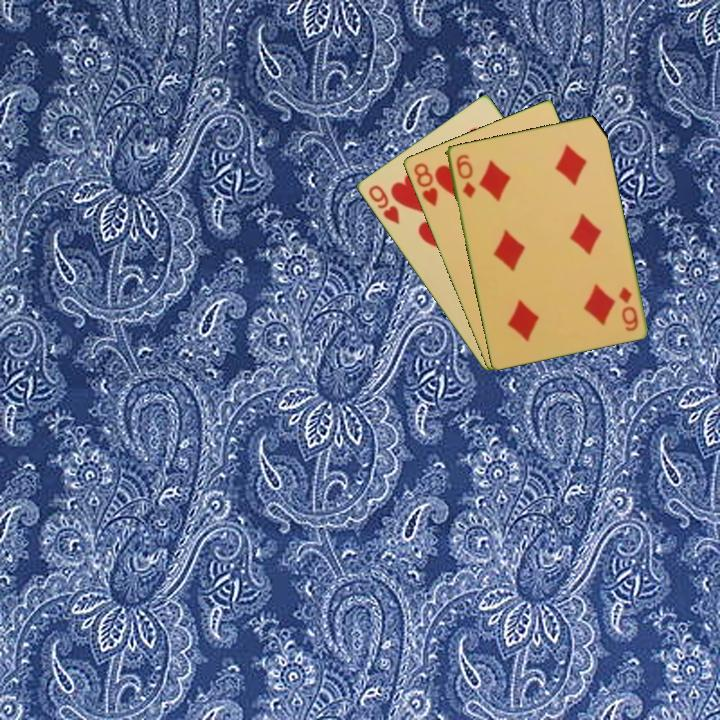6d: (452, 150, 478, 201), (615, 283, 641, 334)
8h: (410, 159, 441, 209)
9h: (364, 181, 402, 227)
